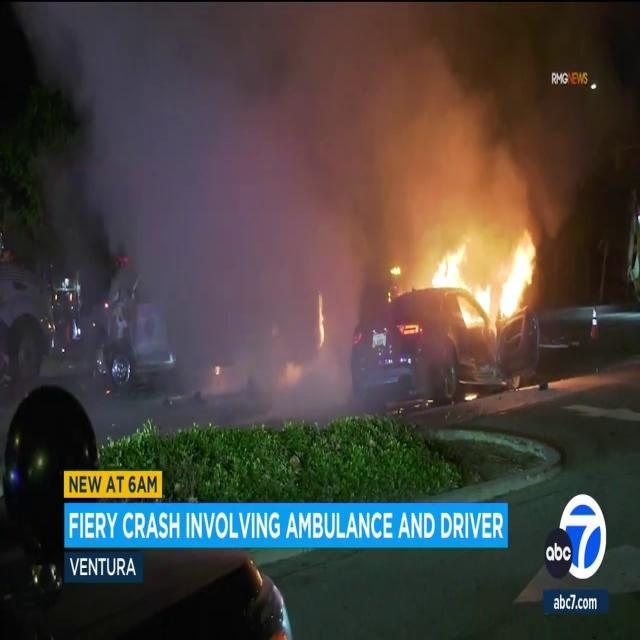Fire: (424, 221, 540, 330)
Smoke: (39, 2, 376, 418), (332, 0, 620, 236)
